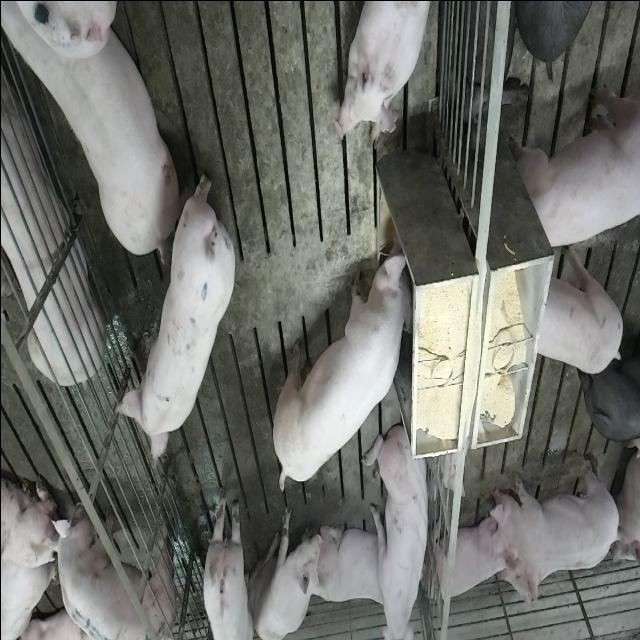Feeding: (274, 246, 420, 494)
Sitting: (368, 417, 432, 636), (249, 502, 322, 638)
Standing: (0, 0, 173, 257), (113, 168, 234, 465), (514, 75, 638, 254), (48, 503, 179, 640), (486, 454, 624, 562), (533, 240, 623, 374), (199, 482, 253, 638), (584, 328, 640, 450)
Sternal_lying: (0, 61, 102, 388), (336, 0, 434, 142), (426, 506, 508, 610), (311, 520, 393, 606), (498, 534, 562, 614)
